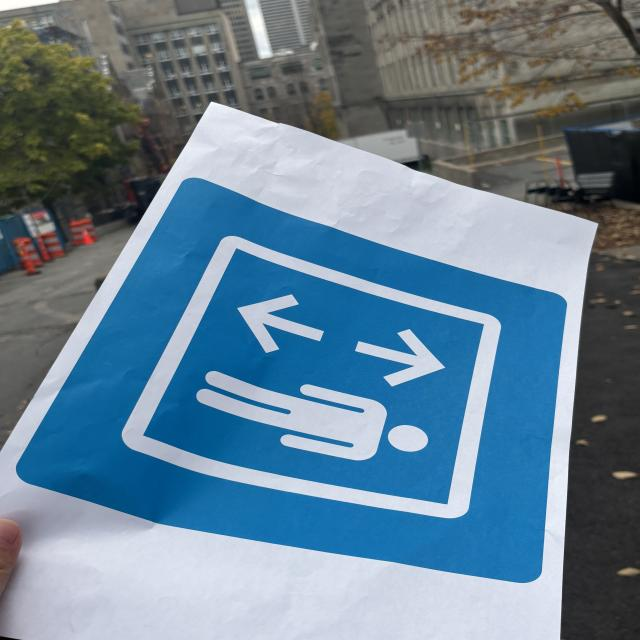elevator: (19, 177, 566, 584)
